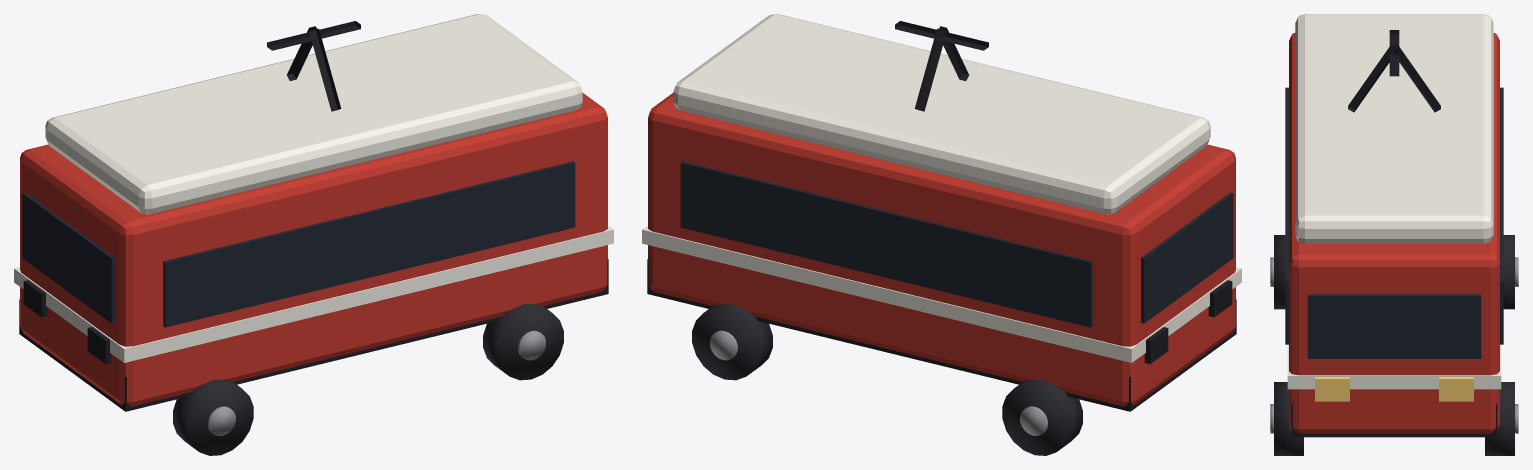
Rendered from tram.glb.
3 views of the same model, side by side, from view 1: azimuth 30°, elevation 25°; view 2: azimuth 150°, elevation 25°; view 3: azimuth 270°, elevation 25° (orthographic). The views are drawn at different scales.
Parts seen in each view (by area): view 1: Tram_Body, Tram_Roof, Tram_Win_R, Tram_Belt, Tram_Win_B, Tram_Wheel_-1.4_-0.85, Tram_Wheel_1.4_-0.85, Tram_Skirt, Tram_Pan_L, Tram_Pan_Bar, Tram_Hub_1.4_-0.85, Tram_Hub_-1.4_-0.85 (+2 smaller); view 2: Tram_Body, Tram_Roof, Tram_Win_L, Tram_Belt, Tram_Win_B, Tram_Wheel_-1.4_0.85, Tram_Wheel_1.4_0.85, Tram_Skirt, Tram_Pan_R, Tram_Pan_Bar, Tram_Hub_1.4_0.85, Tram_Hub_-1.4_0.85 (+2 smaller); view 3: Tram_Roof, Tram_Body, Tram_Win_F, Tram_Belt, Tram_Wheel_1.4_-0.85, Tram_Wheel_1.4_0.85, Tram_Skirt, Tram_Win_L, Tram_Win_R, Tram_Wheel_-1.4_-0.85, Tram_Wheel_-1.4_0.85, Tram_Light_F_-1 (+4 smaller).
Part boxes in pixels (left/top/right/bottom): Tram_Body: left=20, top=93, right=607, bottom=406; Tram_Roof: left=45, top=14, right=582, bottom=214; Tram_Win_R: left=163, top=161, right=575, bottom=327; Tram_Belt: left=14, top=225, right=613, bottom=362; Tram_Win_B: left=22, top=192, right=114, bottom=323; Tram_Wheel_-1.4_-0.85: left=173, top=379, right=253, bottom=455; Tram_Wheel_1.4_-0.85: left=483, top=303, right=563, bottom=380; Tram_Skirt: left=19, top=259, right=608, bottom=411; Tram_Pan_L: left=309, top=28, right=341, bottom=111; Tram_Pan_Bar: left=267, top=21, right=360, bottom=50; Tram_Hub_1.4_-0.85: left=518, top=330, right=545, bottom=360; Tram_Hub_-1.4_-0.85: left=208, top=406, right=235, bottom=435; Tram_Body: left=648, top=93, right=1235, bottom=406; Tram_Roof: left=673, top=14, right=1210, bottom=214; Tram_Win_L: left=680, top=161, right=1092, bottom=327; Tram_Belt: left=642, top=225, right=1241, bottom=362; Tram_Win_B: left=1141, top=192, right=1233, bottom=323; Tram_Wheel_-1.4_0.85: left=1002, top=379, right=1082, bottom=455; Tram_Wheel_1.4_0.85: left=692, top=303, right=772, bottom=380; Tram_Skirt: left=647, top=259, right=1236, bottom=411; Tram_Pan_R: left=914, top=28, right=946, bottom=111; Tram_Pan_Bar: left=895, top=21, right=988, bottom=50; Tram_Hub_1.4_0.85: left=710, top=330, right=737, bottom=360; Tram_Hub_-1.4_0.85: left=1020, top=406, right=1047, bottom=435; Tram_Roof: left=1295, top=14, right=1493, bottom=243; Tram_Body: left=1289, top=33, right=1499, bottom=433; Tram_Win_F: left=1307, top=294, right=1481, bottom=358; Tram_Belt: left=1287, top=344, right=1501, bottom=389; Tram_Wheel_1.4_-0.85: left=1274, top=382, right=1303, bottom=455; Tram_Wheel_1.4_0.85: left=1485, top=382, right=1514, bottom=455; Tram_Skirt: left=1291, top=403, right=1497, bottom=437; Tram_Win_L: left=1500, top=87, right=1503, bottom=344; Tram_Win_R: left=1285, top=87, right=1288, bottom=344; Tram_Wheel_-1.4_-0.85: left=1274, top=235, right=1285, bottom=309; Tram_Wheel_-1.4_0.85: left=1503, top=235, right=1514, bottom=309; Tram_Light_F_-1: left=1315, top=377, right=1349, bottom=401.
Bounding box in the file's own units: 4.5 × 2.97 × 2.
